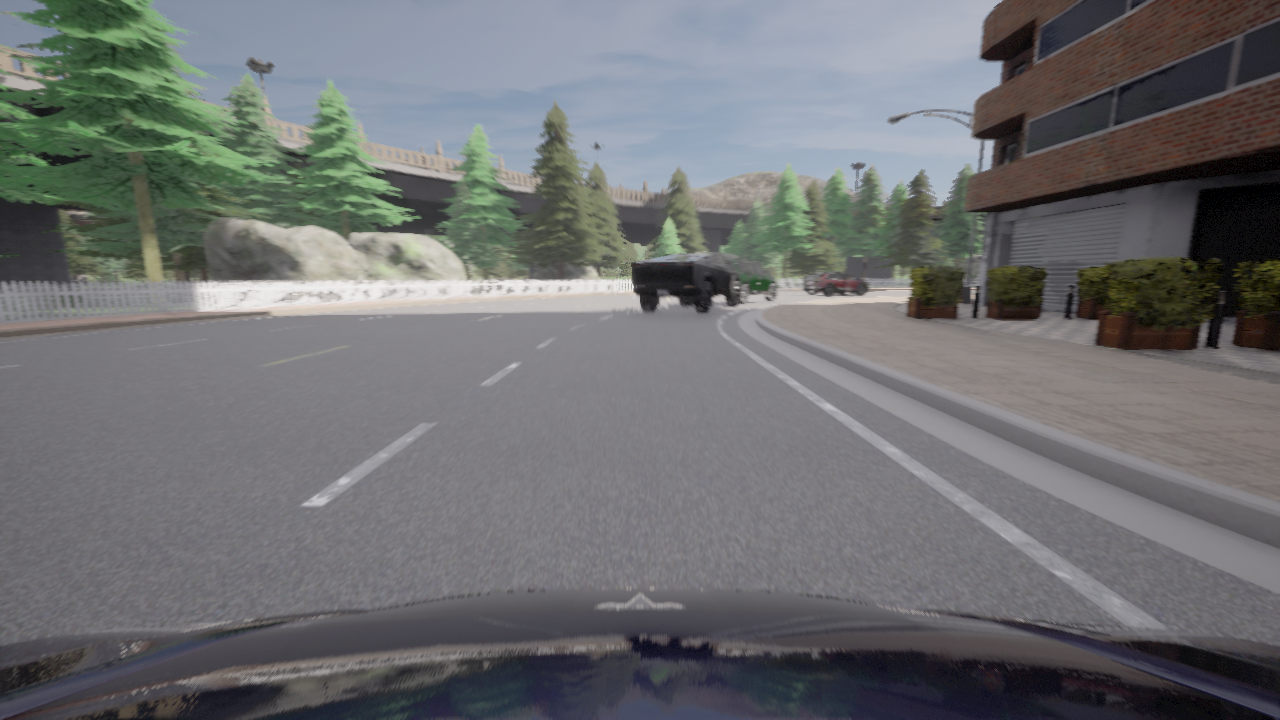cyclist: (0, 588, 1279, 719), (632, 253, 741, 313), (724, 259, 778, 304), (802, 271, 867, 295)
